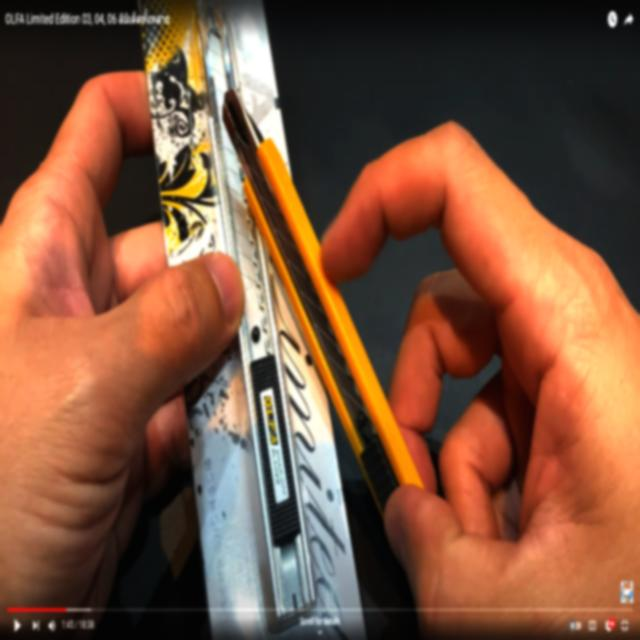cutter: (212, 73, 640, 603), (178, 3, 325, 627)
